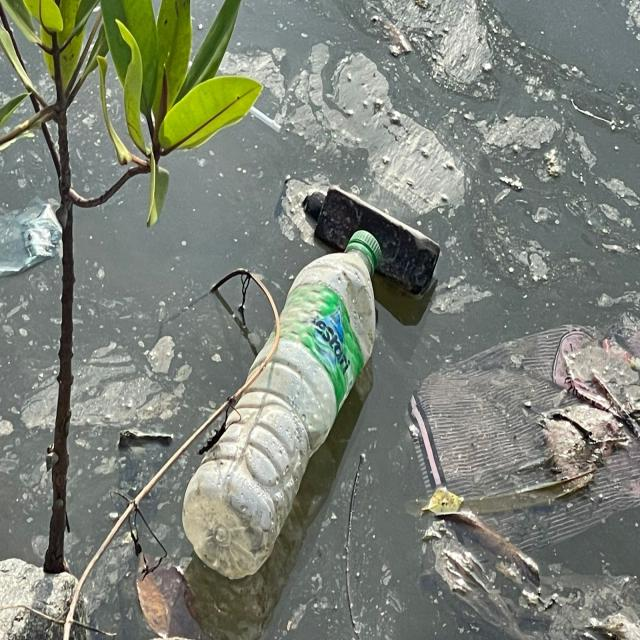Botol Plastik: (182, 229, 381, 592)
